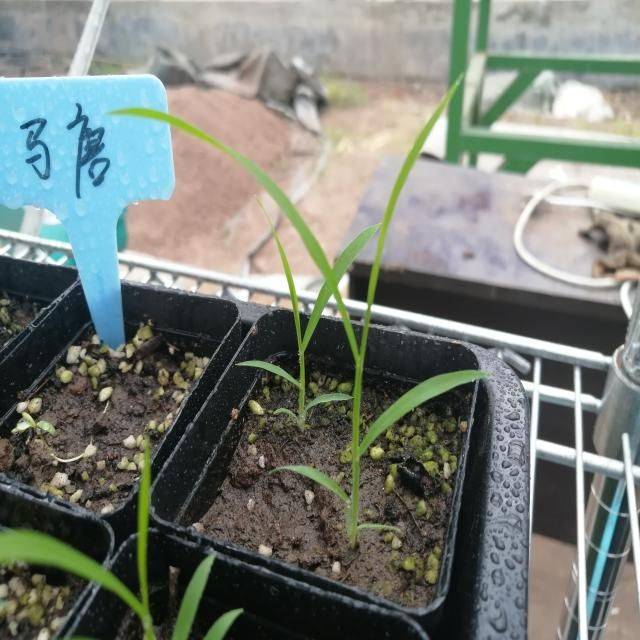crabgrass: (164, 97, 490, 523)
